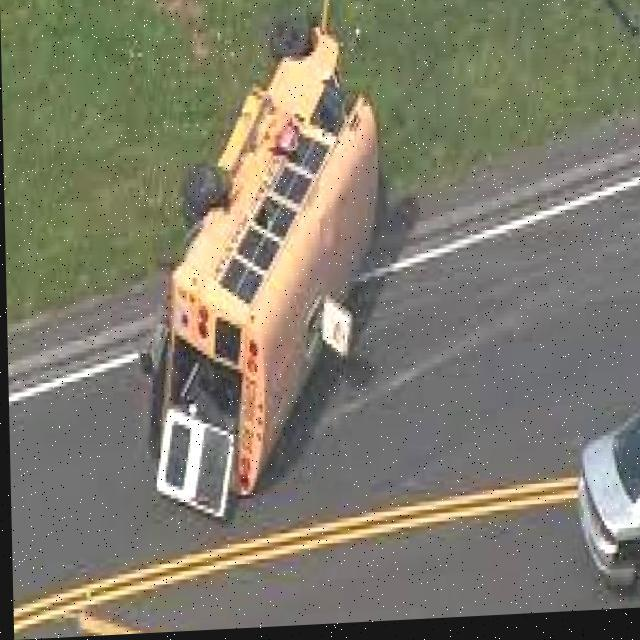single accident: (112, 2, 450, 530)
